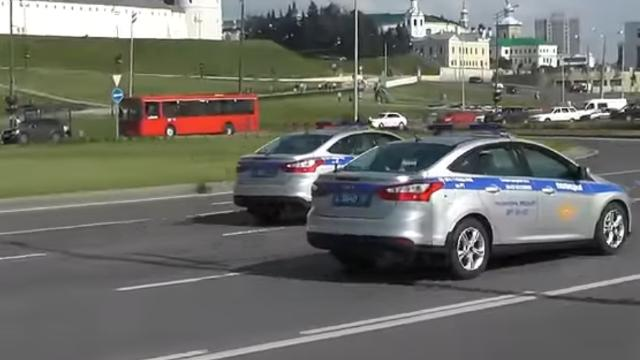non emergency car: (118, 92, 258, 140), (2, 116, 70, 146), (526, 104, 580, 128), (580, 100, 628, 121), (367, 109, 407, 128), (432, 111, 474, 129)
police car: (306, 122, 632, 274), (235, 122, 401, 222)
